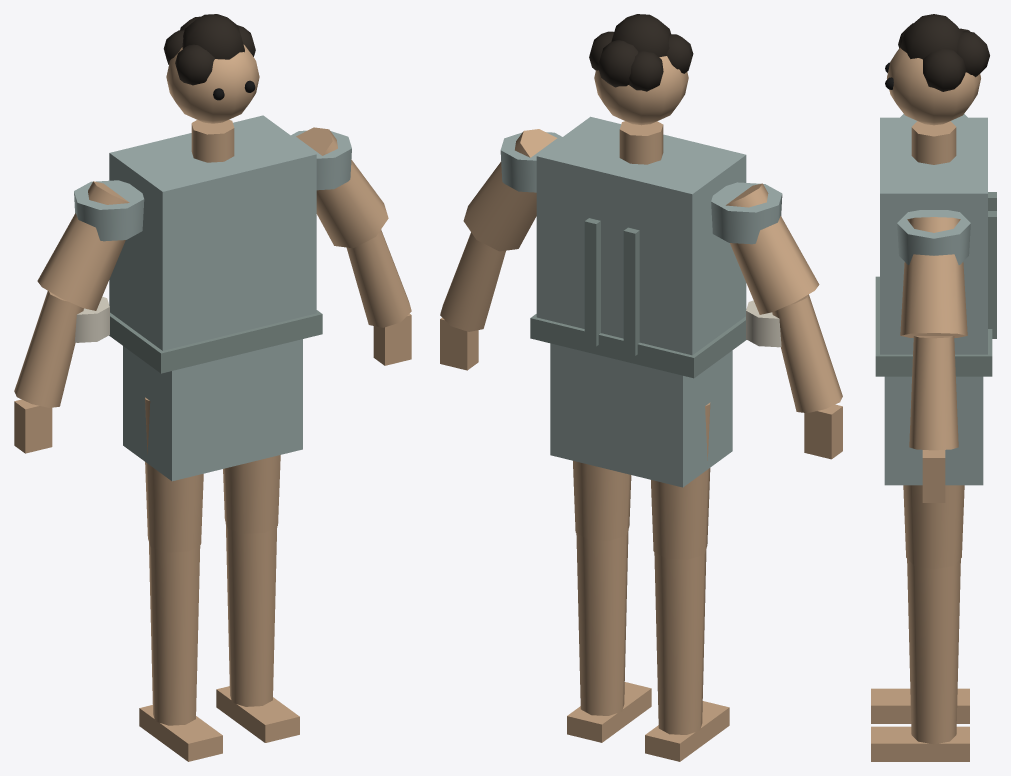
The model's file is prisoner.glb.
3 views of the same model, side by side, from view 1: azimuth 30°, elevation 25°; view 2: azimuth 150°, elevation 25°; view 3: azimuth 270°, elevation 25° (orthographic).
Visible parts, largest first — view 1: gown_chest, gown_skirt, shin_L, shin_R, sleeve_L, gown_hem_tie, forearm_L, sleeve_R, thigh_L, skull, thigh_R, forearm_R (+10 smaller); view 2: gown_chest, gown_skirt, shin_R, shin_L, sleeve_L, forearm_L, gown_hem_tie, sleeve_R, thigh_L, thigh_R, forearm_R, skull (+14 smaller); view 3: gown_chest, shin_R, gown_skirt, sleeve_R, forearm_R, thigh_R, skull, foot_R, sleeve_cap_R, gown_hem_tie, hair_clump_0, foot_L (+5 smaller).
Part boxes in pixels (x1=…): gown_chest: x1=109, y1=115, x2=316, y2=350; gown_skirt: x1=123, y1=339, x2=302, y2=481; shin_L: x1=149, y1=543, x2=200, y2=725; shin_R: x1=225, y1=523, x2=277, y2=706; sleeve_L: x1=37, y1=181, x2=129, y2=310; gown_hem_tie: x1=109, y1=310, x2=322, y2=373; forearm_L: x1=14, y1=291, x2=83, y2=407; sleeve_R: x1=296, y1=127, x2=388, y2=248; thigh_L: x1=145, y1=397, x2=203, y2=552; skull: x1=166, y1=44, x2=259, y2=123; thigh_R: x1=223, y1=455, x2=280, y2=533; forearm_R: x1=346, y1=229, x2=411, y2=327; gown_chest: x1=536, y1=116, x2=746, y2=355; gown_skirt: x1=550, y1=343, x2=732, y2=487; shin_R: x1=576, y1=530, x2=628, y2=715; shin_L: x1=654, y1=550, x2=706, y2=734; sleeve_L: x1=726, y1=183, x2=819, y2=314; forearm_L: x1=772, y1=294, x2=842, y2=413; gown_hem_tie: x1=530, y1=314, x2=746, y2=378; sleeve_R: x1=463, y1=129, x2=557, y2=251; thigh_L: x1=651, y1=402, x2=710, y2=559; thigh_R: x1=573, y1=461, x2=631, y2=540; forearm_R: x1=440, y1=232, x2=505, y2=331; skull: x1=594, y1=56, x2=688, y2=125; gown_chest: x1=880, y1=117, x2=987, y2=354; shin_R: x1=907, y1=559, x2=960, y2=744; gown_skirt: x1=884, y1=376, x2=983, y2=485; sleeve_R: x1=900, y1=217, x2=967, y2=337; forearm_R: x1=909, y1=336, x2=958, y2=450; thigh_R: x1=903, y1=485, x2=964, y2=569; skull: x1=887, y1=47, x2=980, y2=125; foot_R: x1=871, y1=726, x2=969, y2=761; sleeve_cap_R: x1=897, y1=210, x2=970, y2=264; gown_hem_tie: x1=875, y1=276, x2=992, y2=376; hair_clump_0: x1=900, y1=14, x2=962, y2=58; foot_L: x1=871, y1=688, x2=969, y2=723.
Size of the model in its own units: 1.02 by 1.76 by 0.28.
